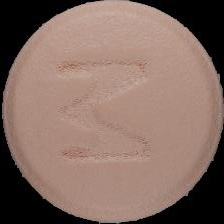67046-075: (0, 0, 224, 224)
